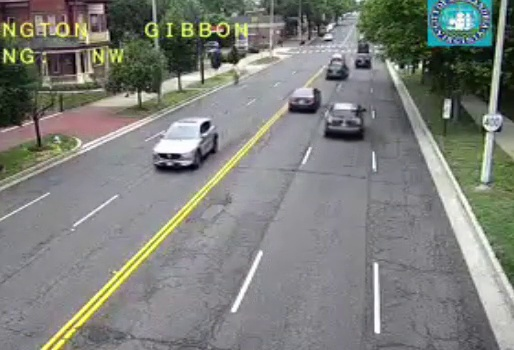car: (325, 103, 362, 134), (288, 88, 320, 108), (325, 64, 345, 80)
